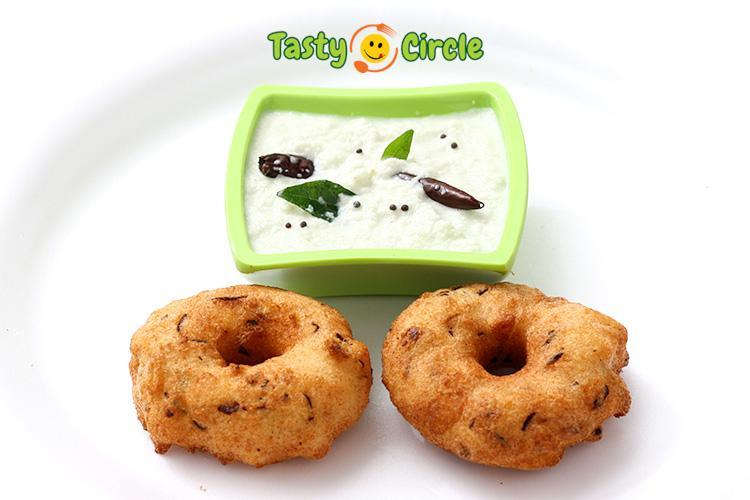mvada: (394, 291, 634, 477), (127, 286, 361, 457)
